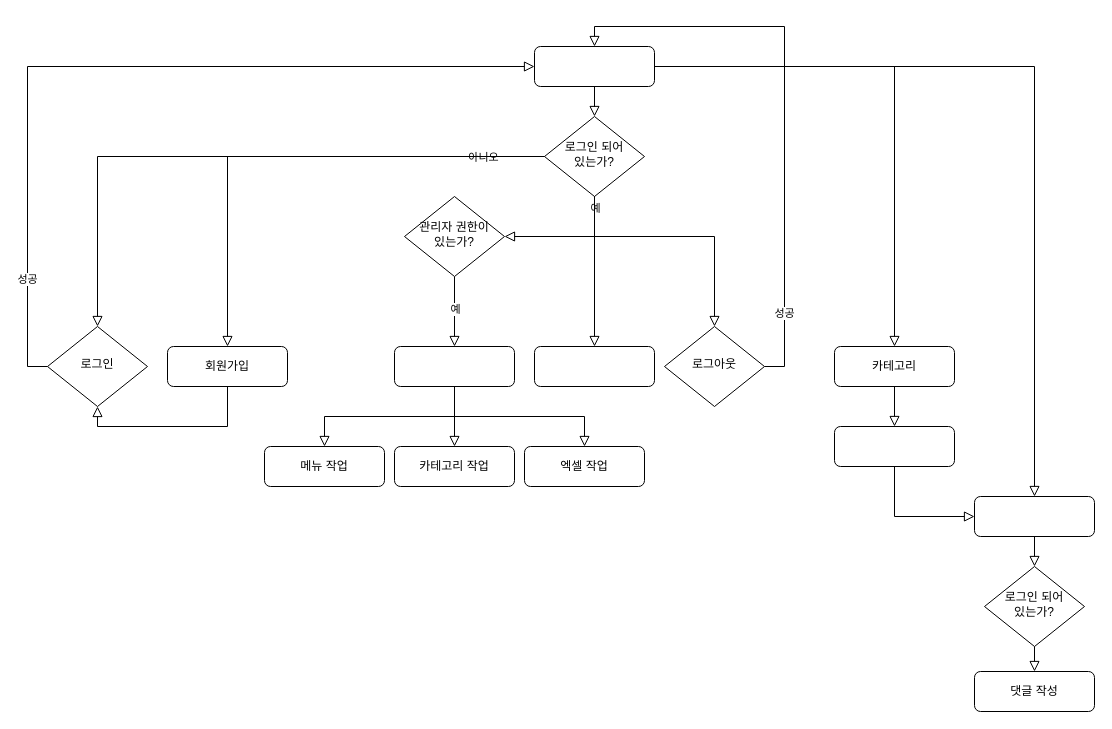
Some shapes in this 1112 by 729 pixel diagram are drawn without their labels. Each missing label, with the centre of its shape:
게시글: [1034,516]
게시판: [894,446]
관리자 페이지: [454,366]
메인 페이지: [594,66]
회원정보: [594,366]
